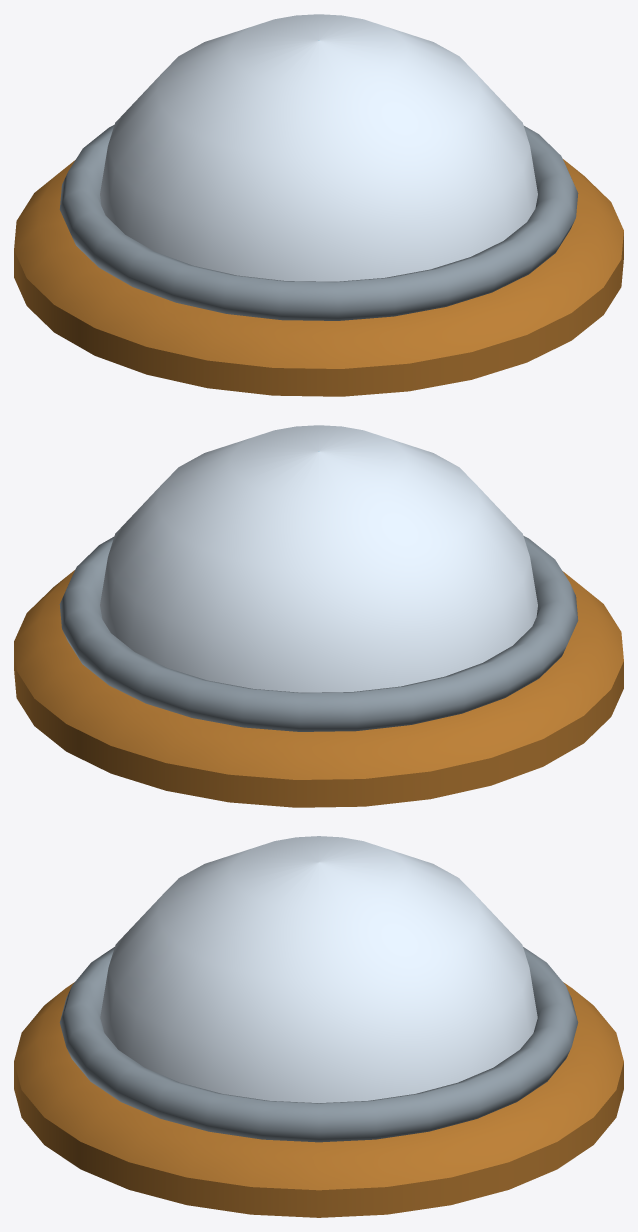
Rendered from bullet-cyan.dae.
The picture shows the model from 3 angles, top to bottom: view 1: azimuth 30°, elevation 25°; view 2: azimuth 150°, elevation 25°; view 3: azimuth 270°, elevation 25°; orthographic projection.
Visible parts, largest first — view 1: lens, accent, metal; view 2: lens, accent, metal; view 3: lens, accent, metal.
Part boxes in pixels (<box>): lens: <box>100,14,537,281</box>; accent: <box>14,159,623,396</box>; metal: <box>59,125,578,320</box>; lens: <box>100,425,537,692</box>; accent: <box>14,570,623,807</box>; metal: <box>59,536,578,731</box>; lens: <box>100,836,537,1102</box>; accent: <box>14,982,623,1217</box>; metal: <box>59,947,578,1142</box>.
Bounding box in the file's own units: 2 × 0.82 × 2.
